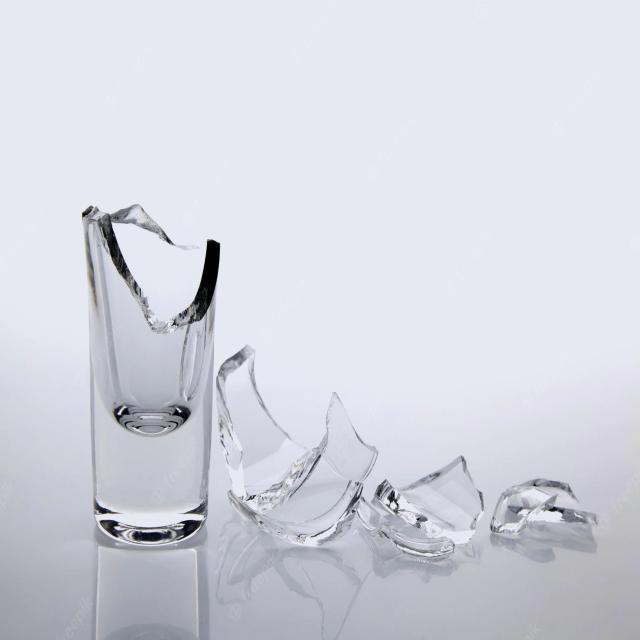Dry Waste: (81, 203, 221, 547), (216, 337, 375, 542), (367, 436, 484, 560), (489, 474, 602, 550)
